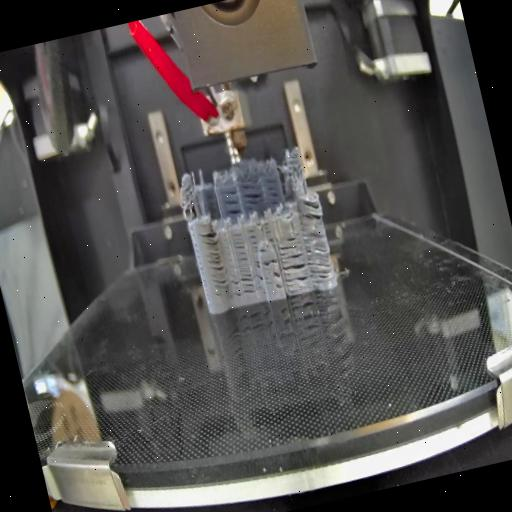cracks: (301, 226, 336, 283), (197, 228, 229, 290), (279, 250, 312, 294), (227, 266, 258, 299), (238, 174, 266, 209), (297, 193, 324, 222), (230, 228, 250, 264), (222, 188, 244, 218), (263, 175, 283, 206), (252, 260, 266, 294), (278, 232, 298, 252), (272, 267, 286, 293), (261, 221, 274, 245), (246, 226, 260, 248), (259, 256, 278, 270), (258, 244, 268, 256)
